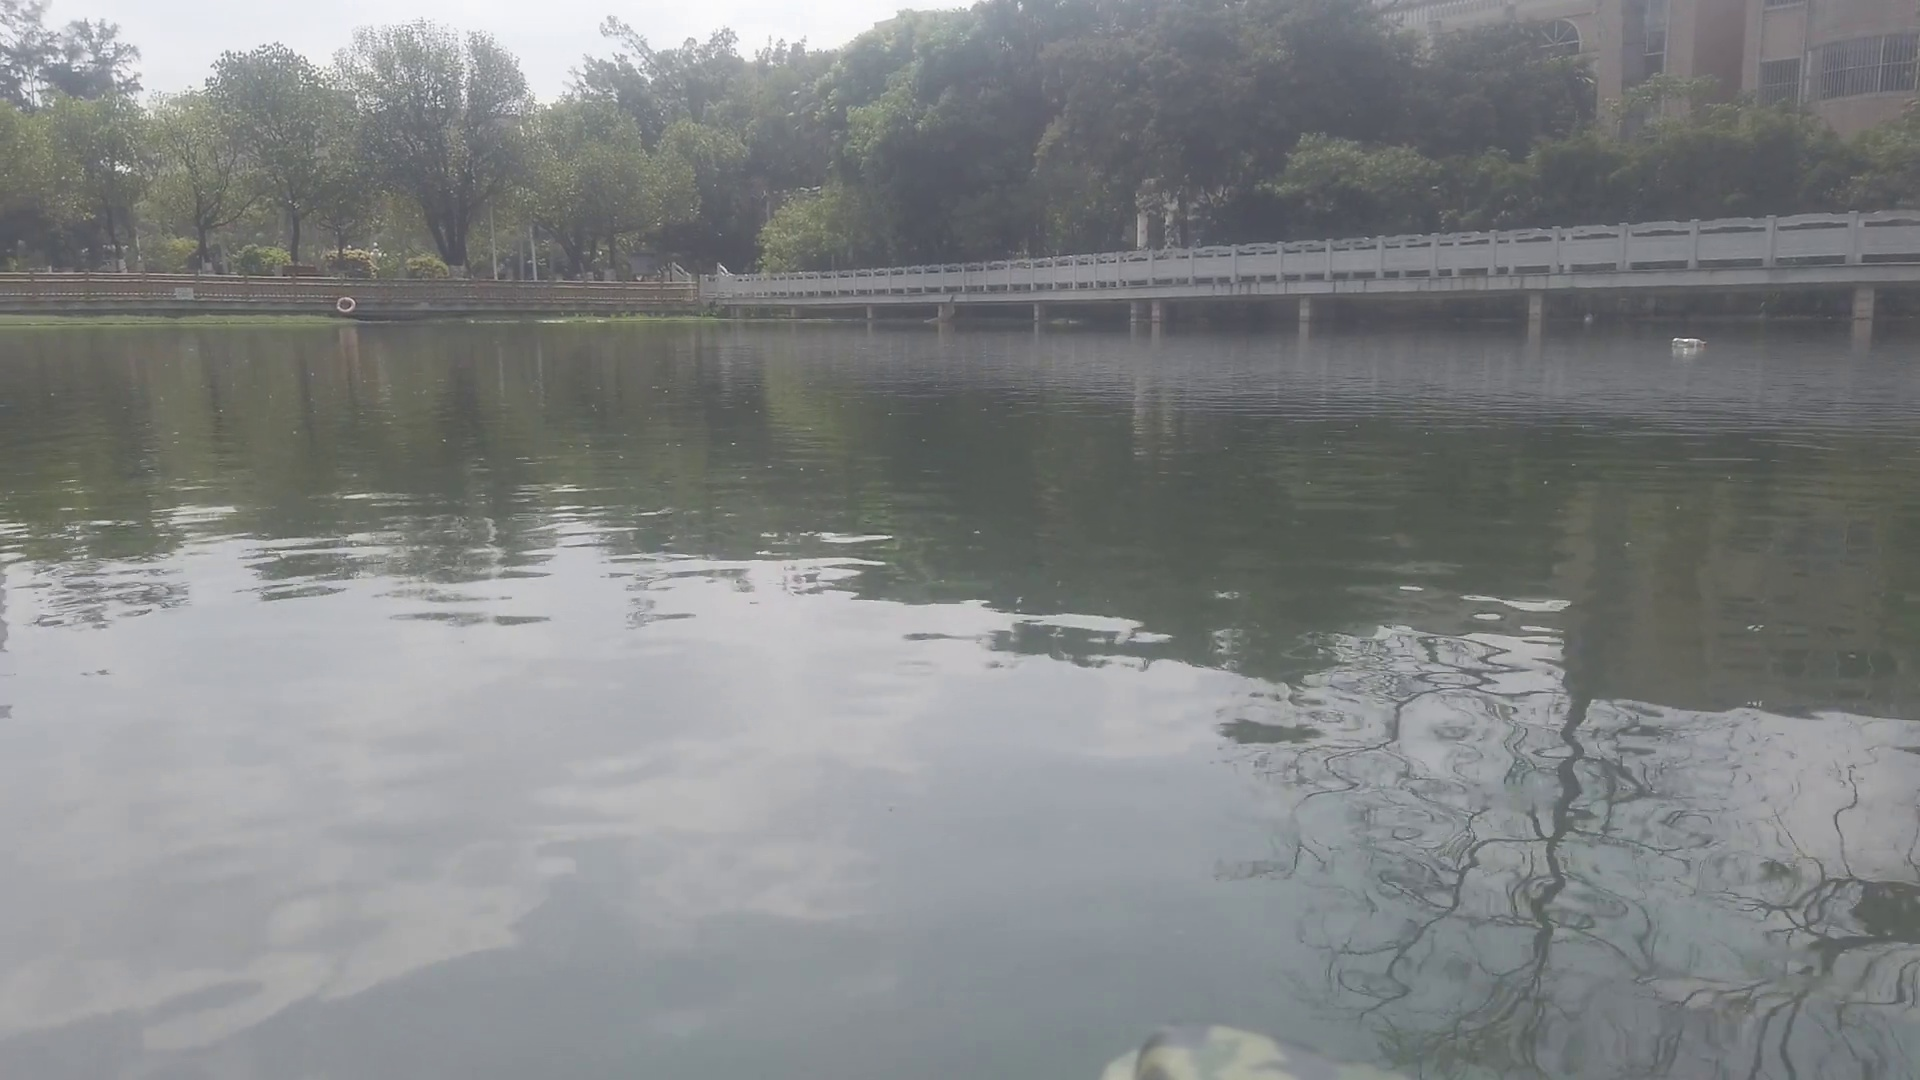bottle: (1669, 335, 1706, 351)
